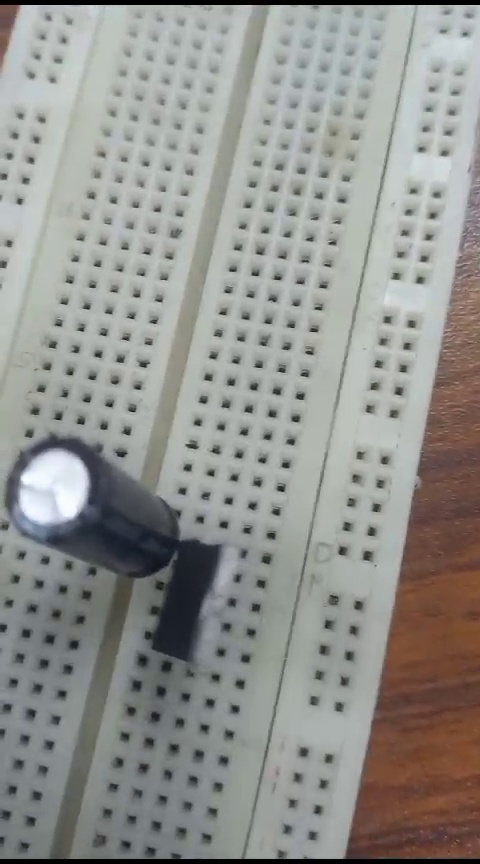capacitor: (4, 425, 182, 576)
voltage regulator: (159, 532, 240, 659)
